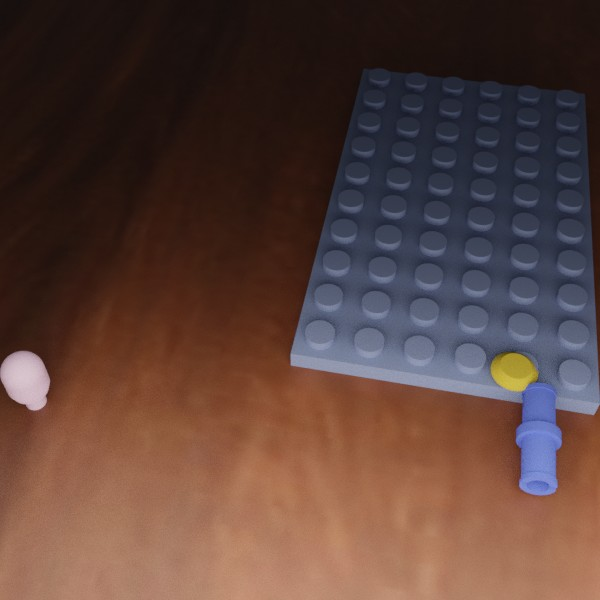lego: (290, 68, 600, 415), (516, 382, 561, 495), (0, 350, 49, 410), (490, 351, 538, 396)
